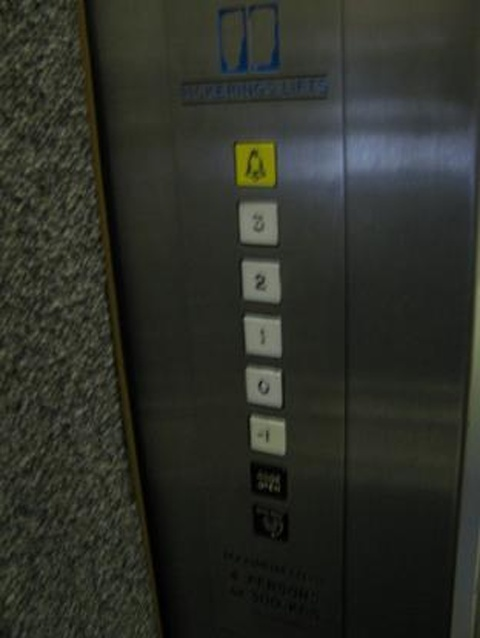-1: (249, 414, 287, 456)
0: (245, 364, 282, 409)
1: (242, 315, 281, 358)
2: (241, 259, 281, 304)
3: (238, 200, 279, 246)
alarm: (235, 141, 276, 186)
text_blur: (250, 462, 288, 500), (252, 506, 288, 541)
